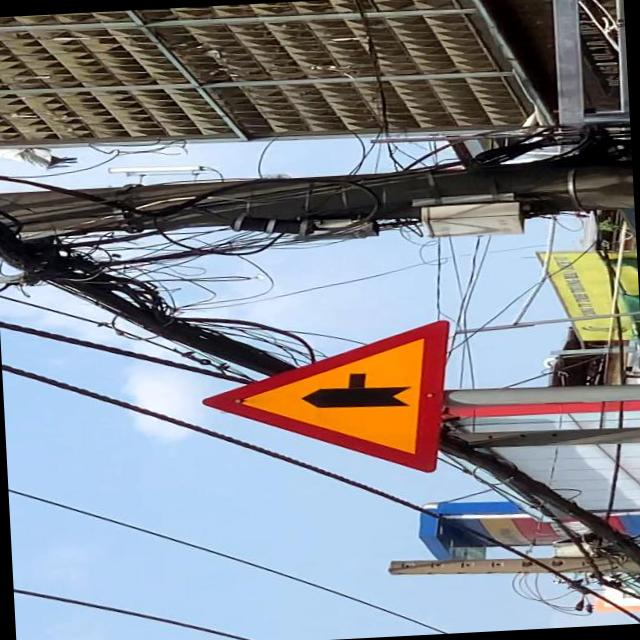W-207b: (194, 320, 457, 482)
